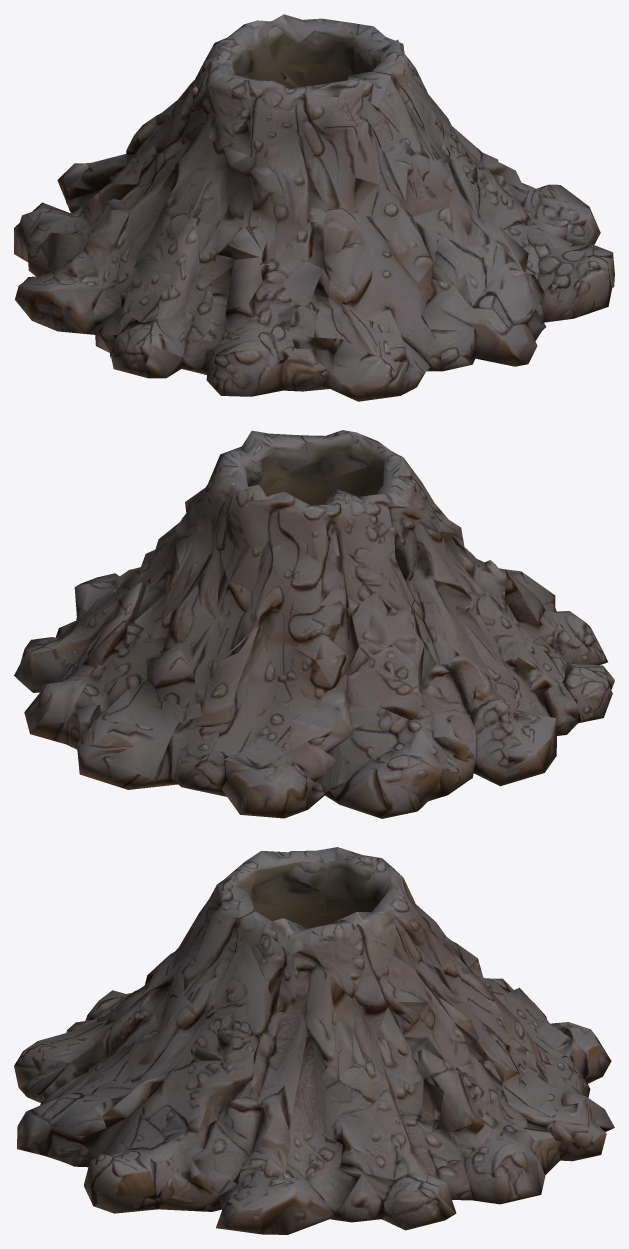
The model's file is volcano.glb.
3 renders of one model, top to bottom at view 1: azimuth 30°, elevation 25°; view 2: azimuth 150°, elevation 25°; view 3: azimuth 270°, elevation 25°, orthographic.
Visible parts, largest first — view 1: tripo_node_ad5a601d-446f-43a5-9212-b54b63a1b632; view 2: tripo_node_ad5a601d-446f-43a5-9212-b54b63a1b632; view 3: tripo_node_ad5a601d-446f-43a5-9212-b54b63a1b632.
Part boxes in pixels (<box>): tripo_node_ad5a601d-446f-43a5-9212-b54b63a1b632: <box>14,14,614,401</box>; tripo_node_ad5a601d-446f-43a5-9212-b54b63a1b632: <box>14,430,614,818</box>; tripo_node_ad5a601d-446f-43a5-9212-b54b63a1b632: <box>14,847,614,1234</box>.
Size of the model in its own units: 0.9991 by 0.4278 by 0.9957.
Materials: 1 (1 with a texture image).
